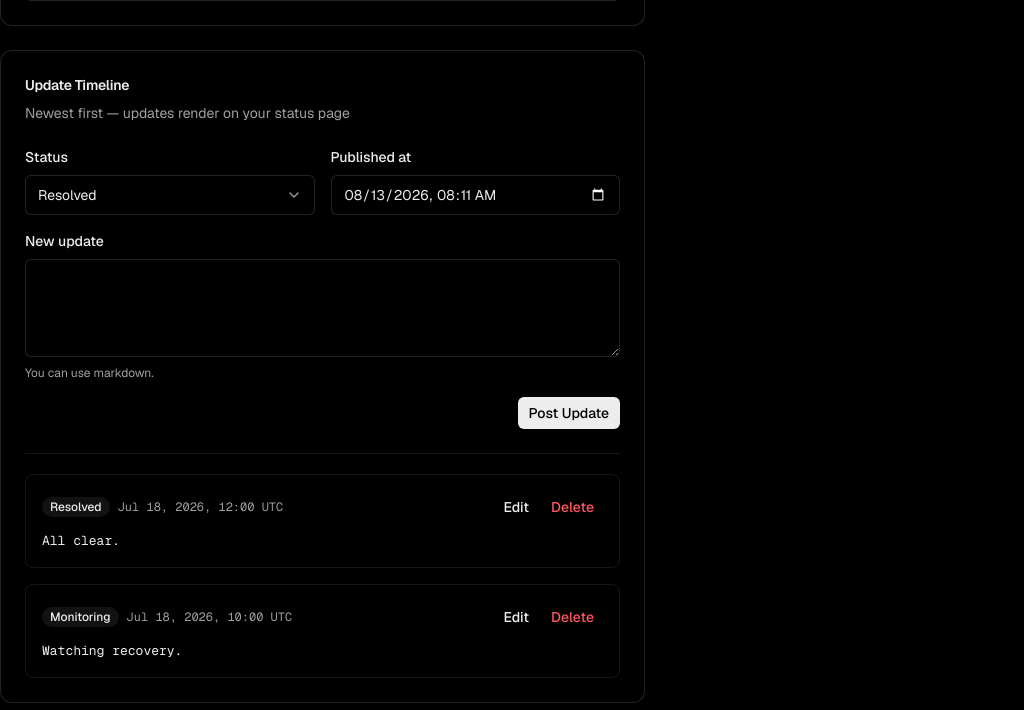
Test: ReportEditor edit mode › warns in the edit form when publishedAt predates the report start
The image size is (1024, 710).
(page scrolled)
Click the button "Edit" in the row of "Jul 18, 2026, 10:00 UTC" at (516, 617), box left=495, top=601, right=538, bottom=633
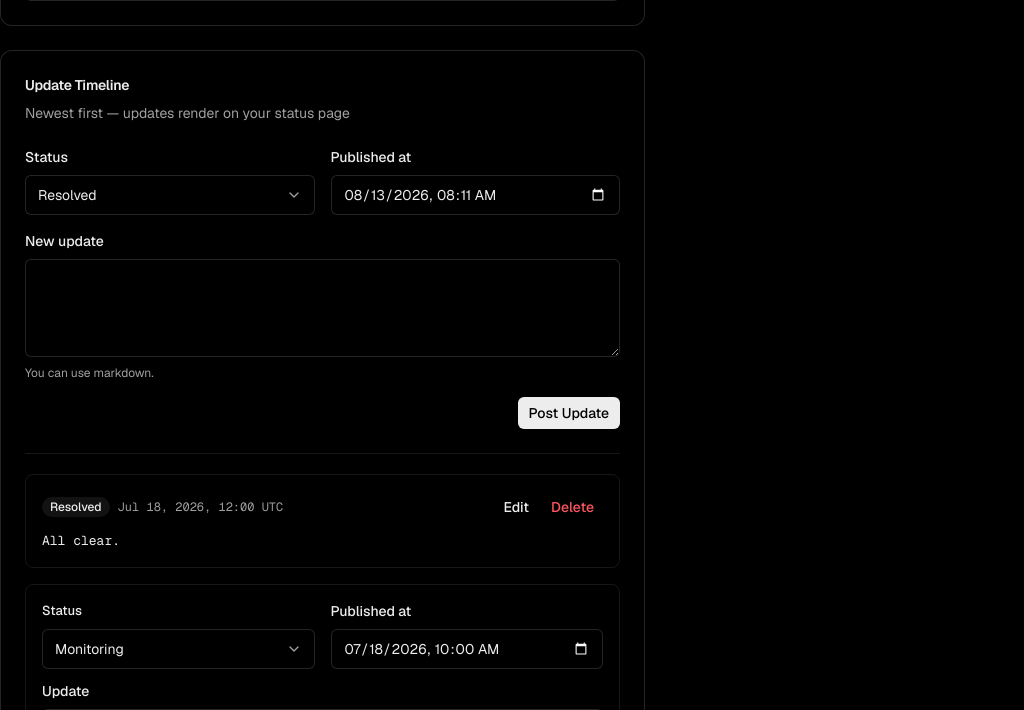
Replace the text in the field labelled "Published at" below "All clear." with "2026-07-01T08:00" at (467, 649), box left=330, top=629, right=603, bottom=669
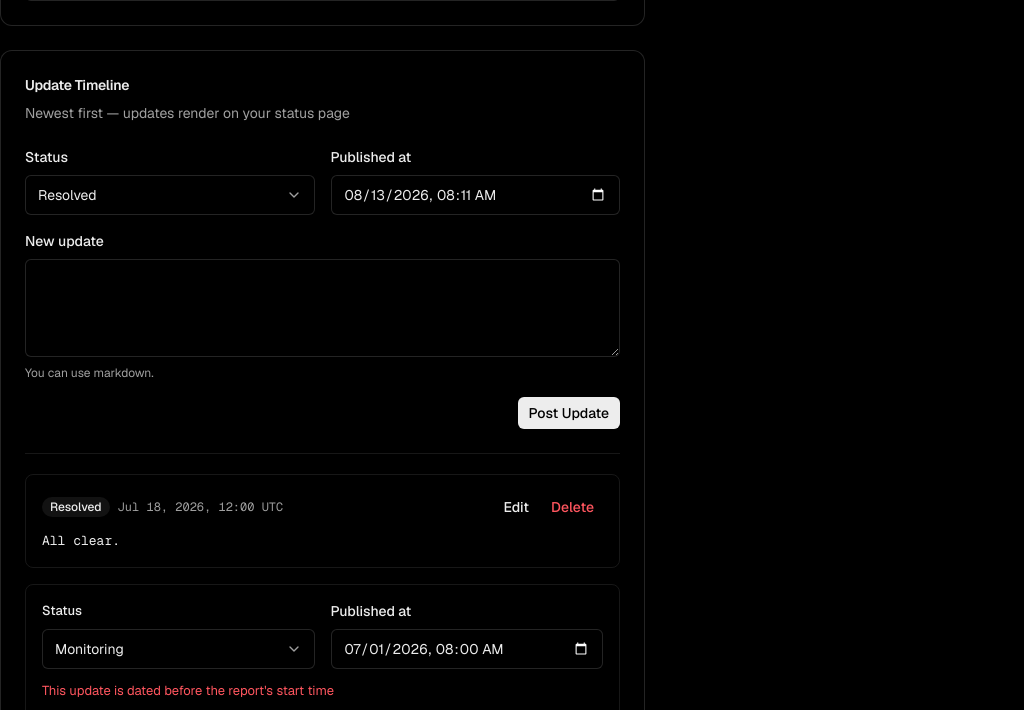
Check: the text "This update is dated before the report's start time" is shown, box left=42, top=682, right=334, bottom=699
